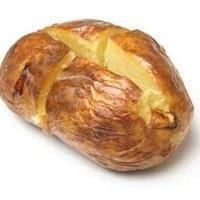biodegradable: (0, 17, 195, 174)
